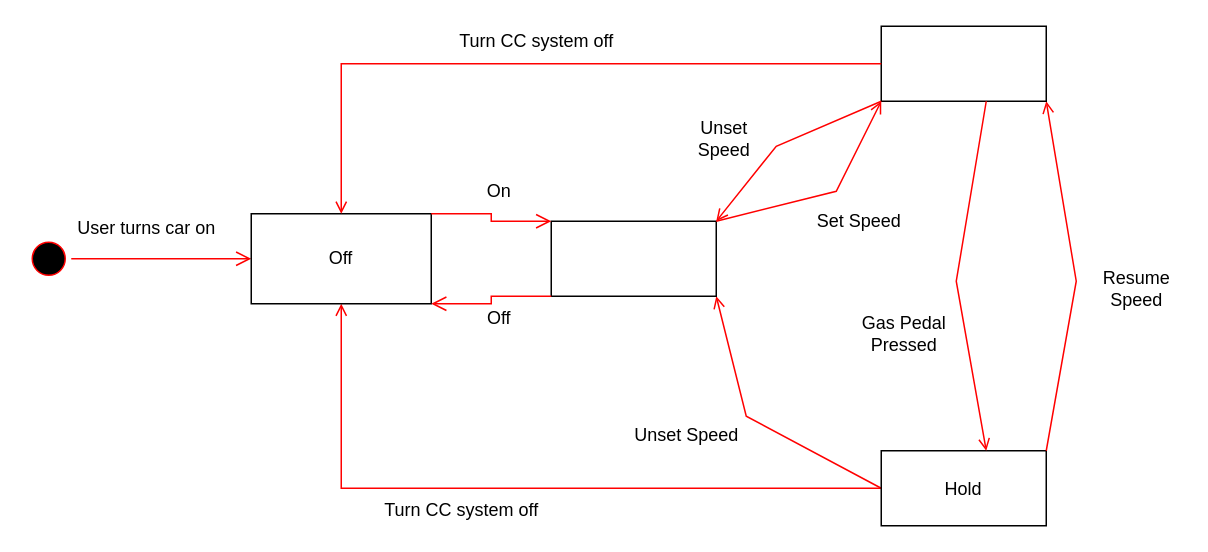
This 1208x552 diagram has some shape labels left out. Here are the shapes that lost their labels. From the top down, the centre of each, then its label:
the point at 963,63: Maintain Speed
the point at 633,258: CC System Ready
